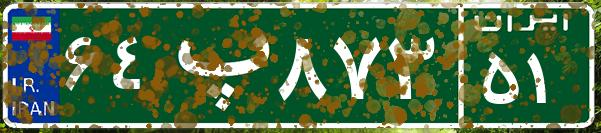1: (525, 38, 570, 115)
3: (385, 28, 445, 110)
4: (110, 28, 158, 105)
5: (475, 38, 525, 113)
6: (57, 26, 110, 107)
7: (330, 28, 385, 110)
8: (273, 28, 330, 110)
پ: (158, 15, 273, 115)
